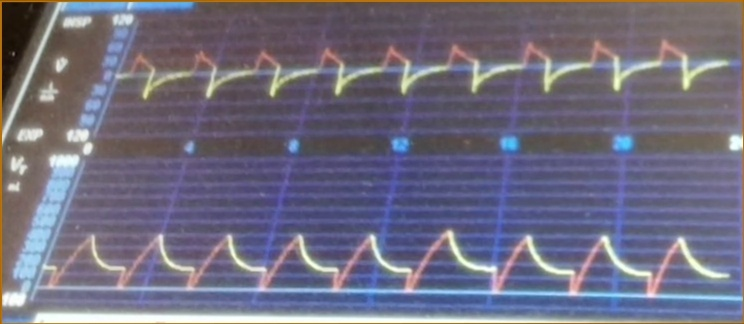Flow: (129, 25, 729, 127)
Leakage Volume: (65, 194, 725, 309)
